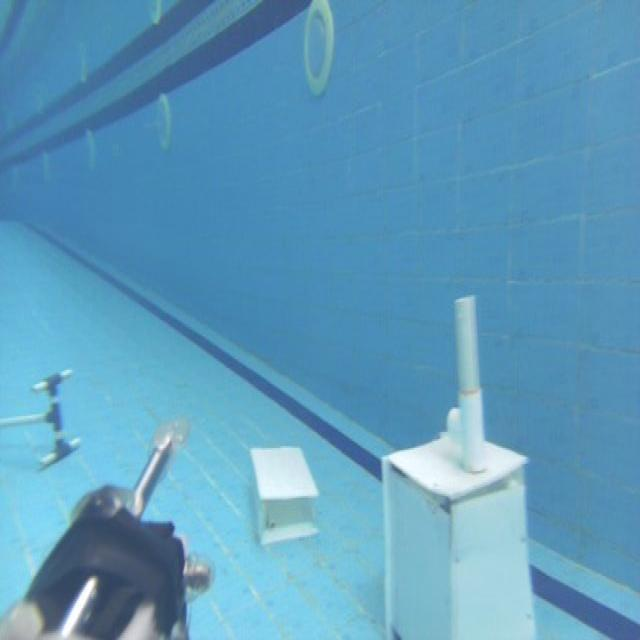Cube: (375, 425, 537, 640)
Cuboid: (249, 443, 319, 544)
